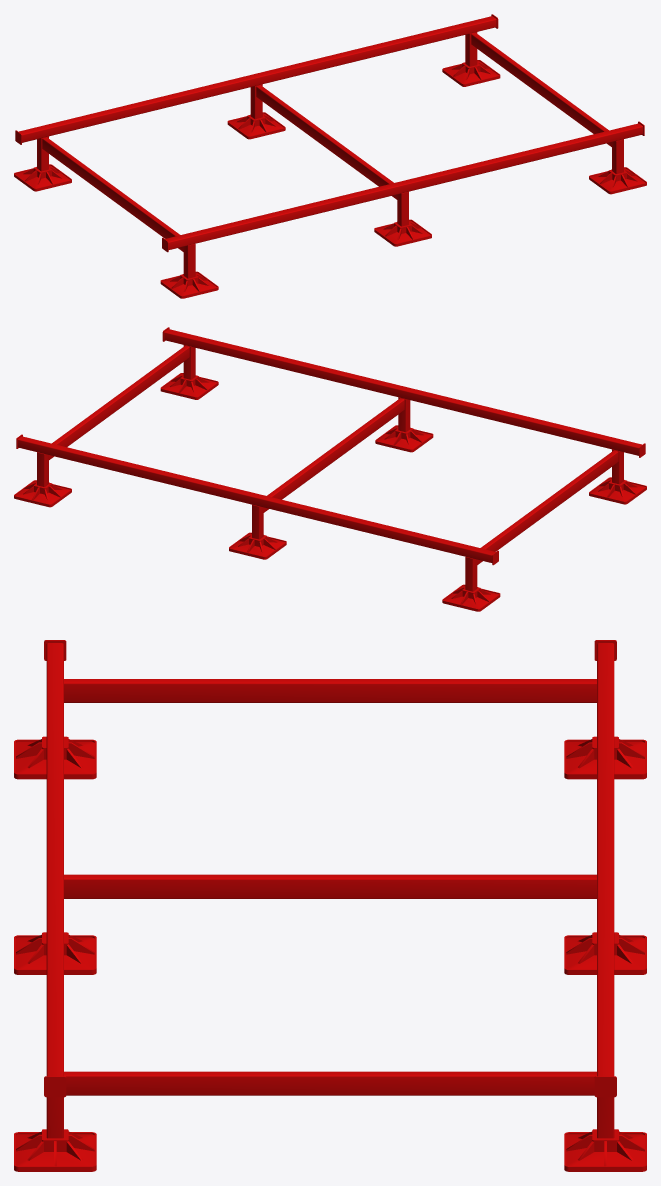
3 renders of one model, top to bottom at view 1: azimuth 30°, elevation 25°; view 2: azimuth 150°, elevation 25°; view 3: azimuth 270°, elevation 25°, orthographic. The views are drawn at different scales.
Parts seen in each view (by area): view 1: Mesh; view 2: Mesh; view 3: Mesh.
Part boxes in pixels (<box>): Mesh: <box>14,14,646,298</box>; Mesh: <box>14,327,646,611</box>; Mesh: <box>14,640,646,1171</box>.
Size of the model in its own units: 3.01 by 0.3189 by 1.84.
